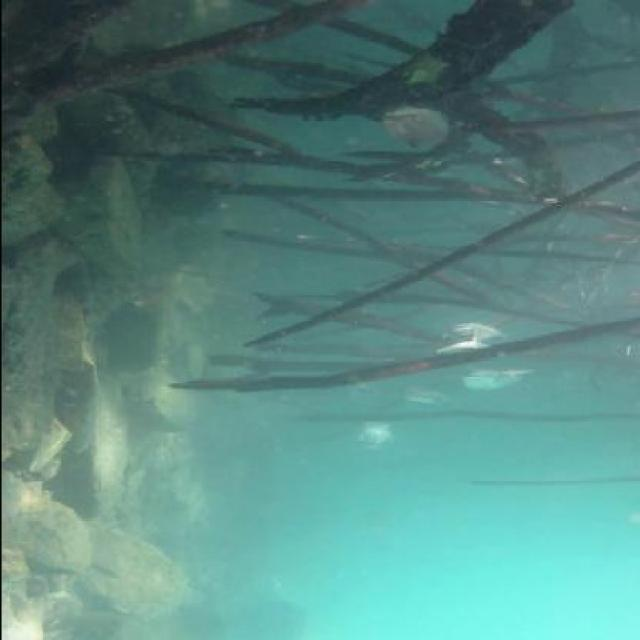Caranx_sexfasciatus_juvenile: (428, 324, 520, 362), (462, 364, 542, 394), (338, 418, 399, 452), (393, 386, 461, 414)
